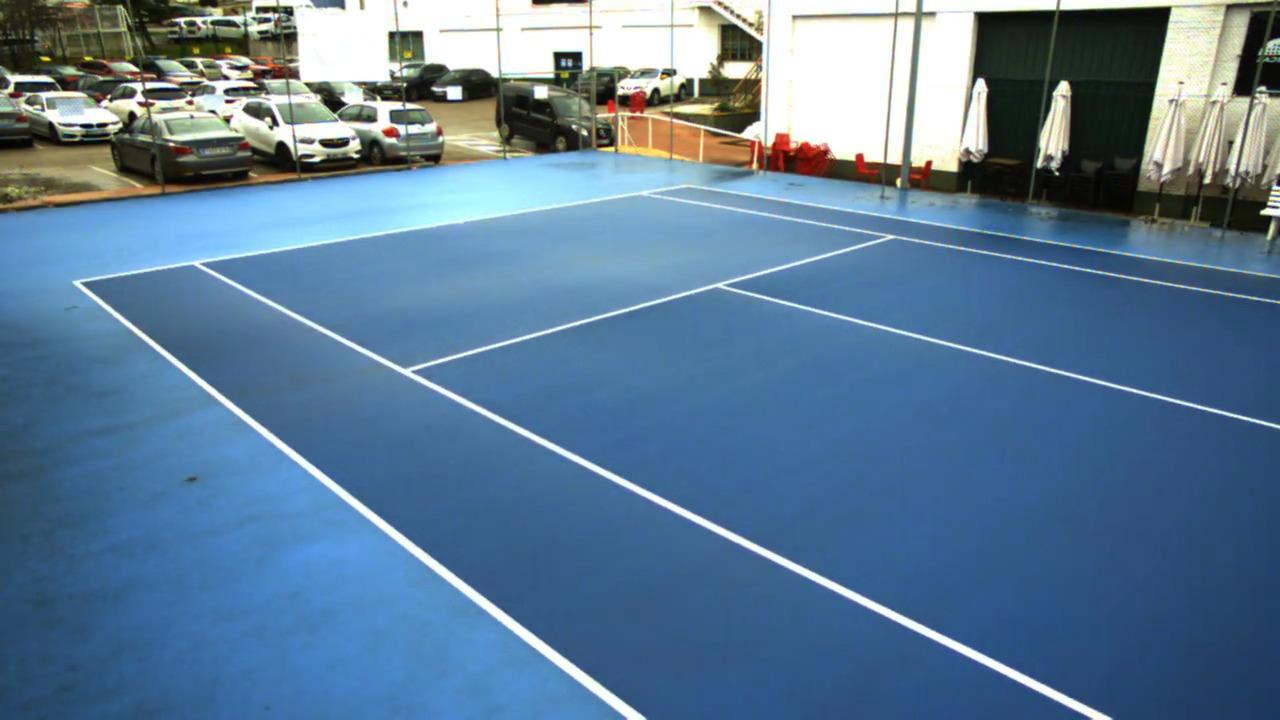cancha_tenis: (195, 191, 1280, 720)
point_f1: (185, 251, 210, 275)
point_f2: (629, 181, 659, 203)
point_fc1: (455, 217, 470, 230)
point_i1: (392, 356, 425, 384)
point_i2: (874, 228, 905, 246)
point_ic1: (704, 274, 738, 296)
